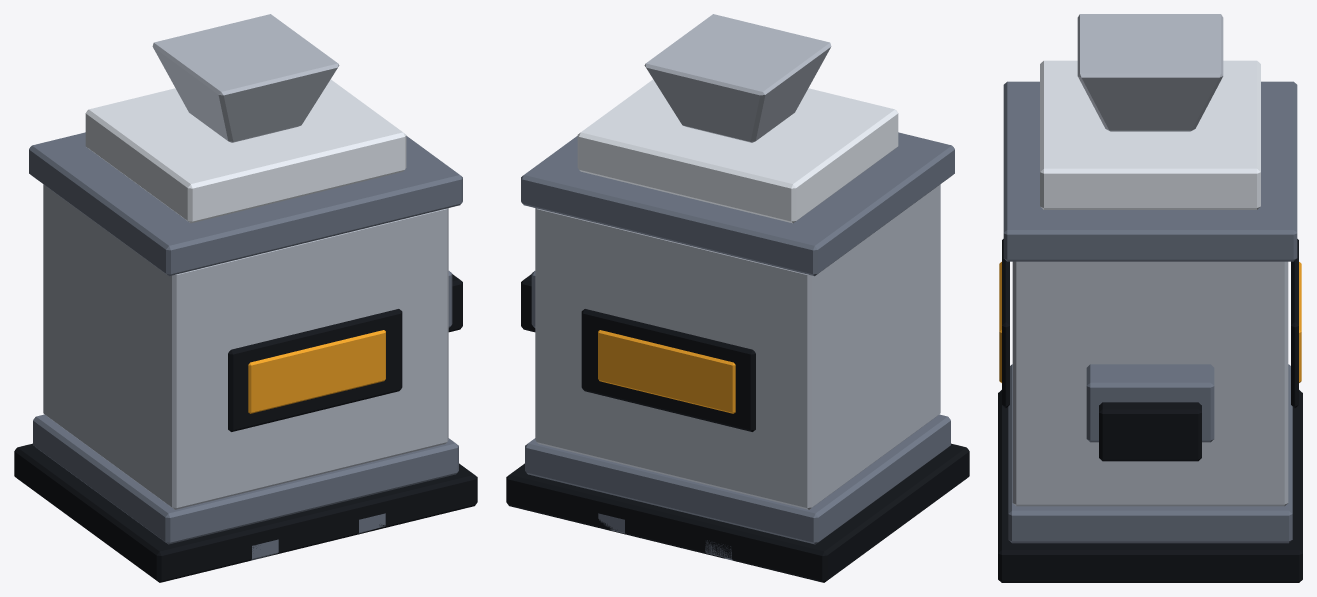
File: dropper-mk2.glb
3 renders of one model, left to right at view 1: azimuth 30°, elevation 25°; view 2: azimuth 150°, elevation 25°; view 3: azimuth 270°, elevation 25°, orthographic. The views are drawn at different scales.
Parts seen in each view (by area): view 1: dropper-mk2; view 2: dropper-mk2; view 3: dropper-mk2.
Part boxes in pixels (x1,y1,x2,y2): dropper-mk2: (14,14,477,582); dropper-mk2: (506,14,969,582); dropper-mk2: (998,14,1302,582).
Size of the model in its own units: 1.04 by 1.23 by 0.74.
